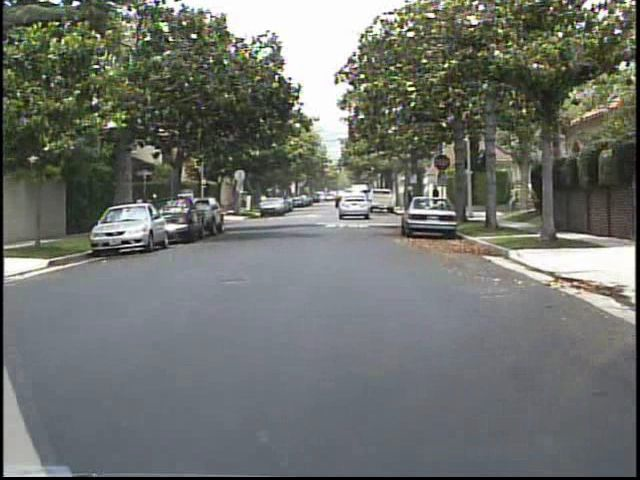person: (134, 191, 150, 229), (426, 182, 443, 214)
